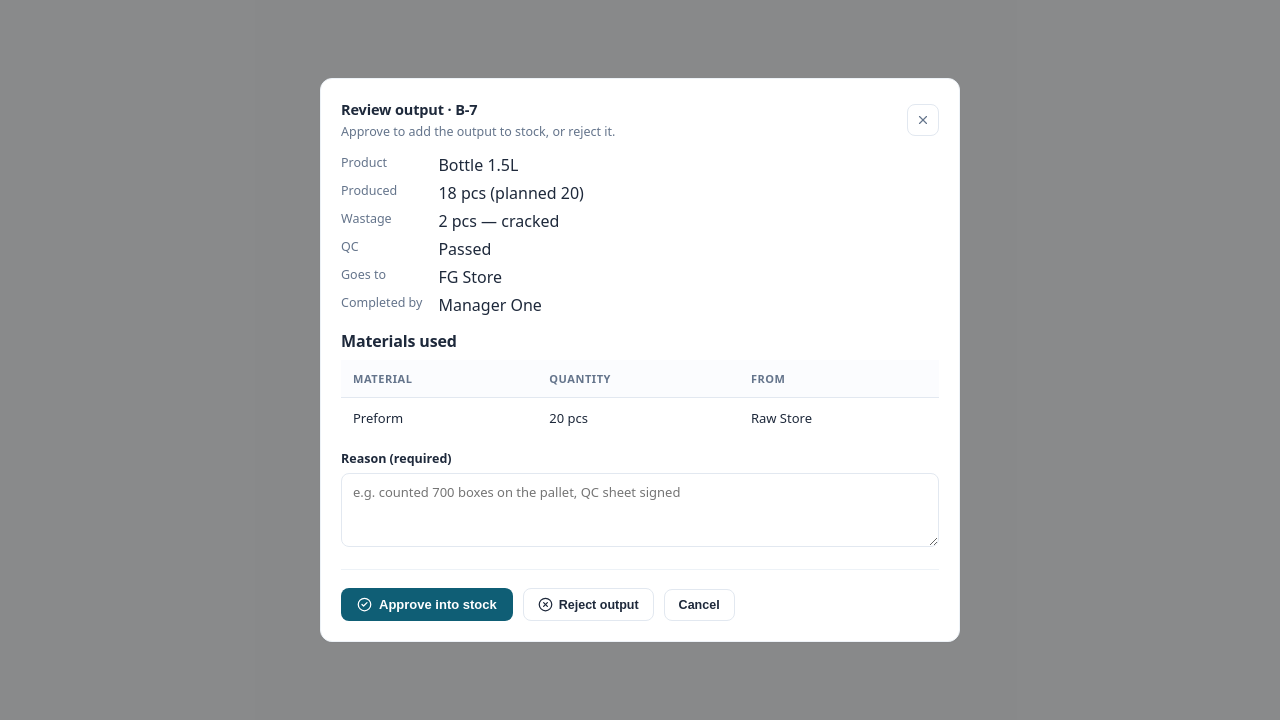
it: Output decision panel › shows what is being approved and needs a reason; no browser prompt
The image size is (1280, 720).
Later steps or results of the test are not shown.
Expected: the text "18 pcs (planned 20)" is shown, 438,182 -> 584,204
Expected: the text "Manager One" is shown, 438,294 -> 542,316
Click the button "Approve into stock": (427, 604) 341,588 -> 513,621
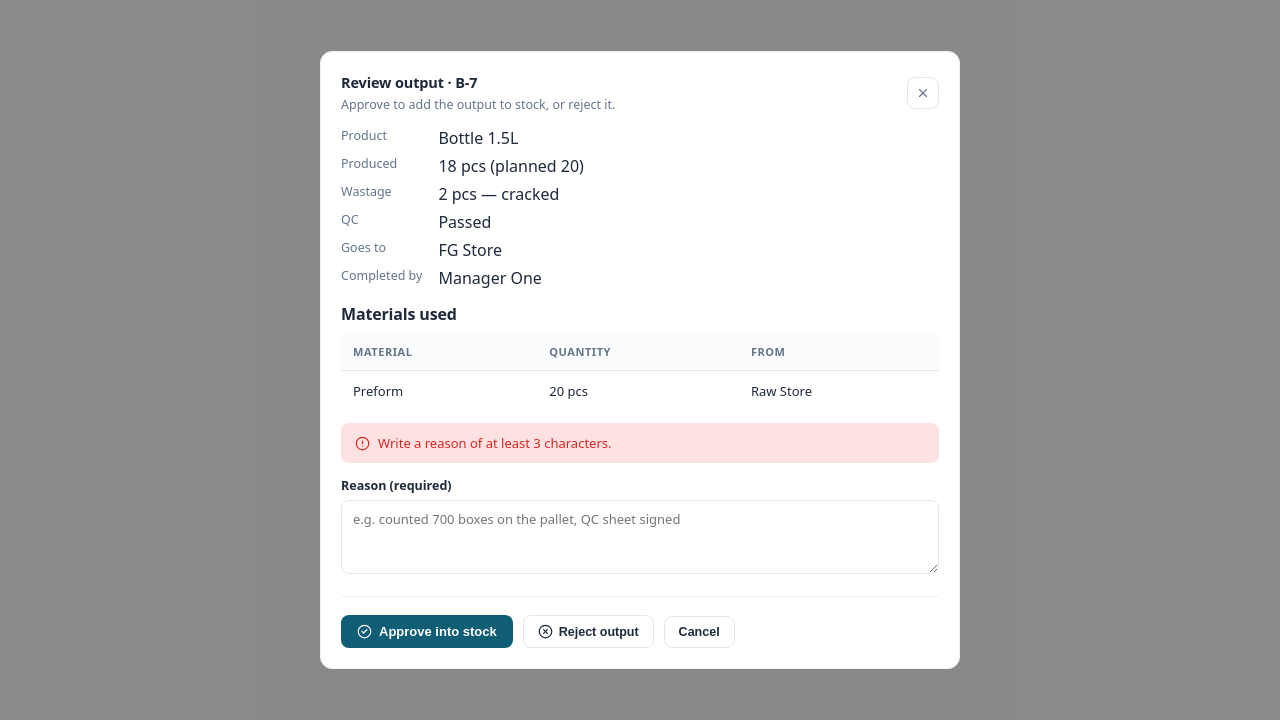
Result: the text "Write a reason of at least 3 characters." is shown at 341,423 -> 939,463
